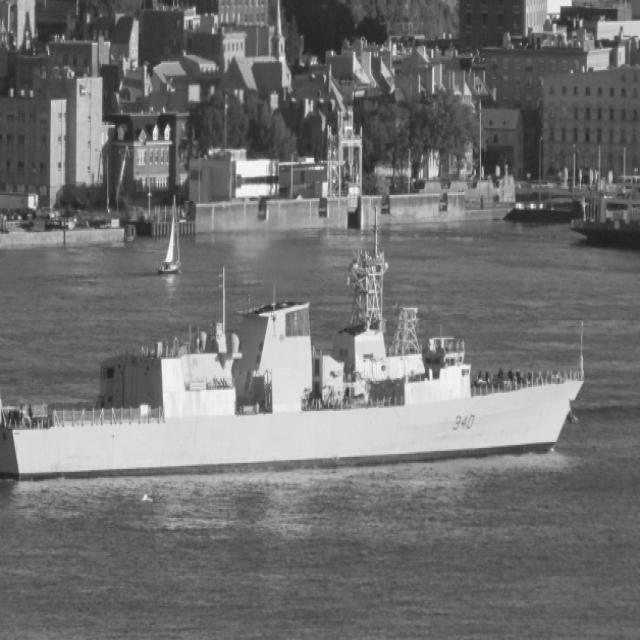Fragata: (1, 175, 594, 489)
